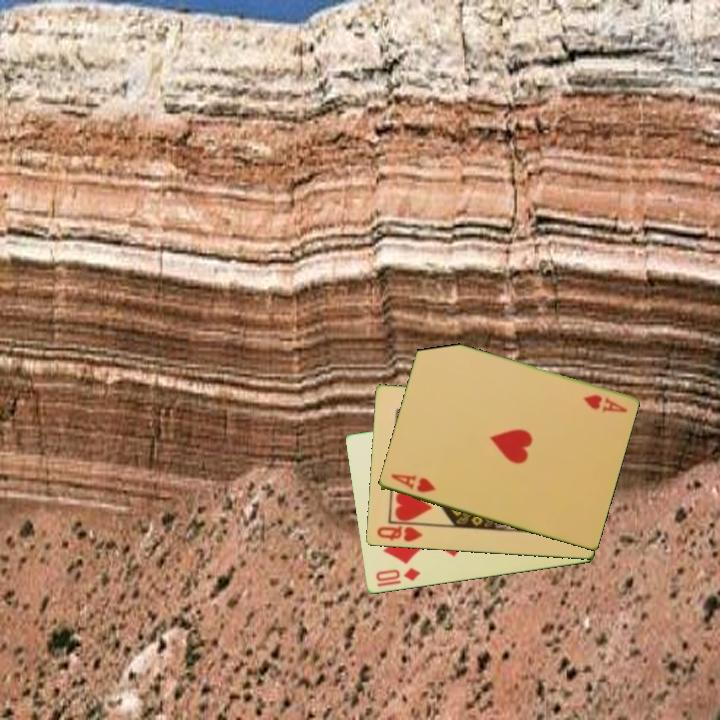10d: (372, 564, 423, 585)
Ah: (387, 471, 438, 496), (579, 391, 630, 416)
Qh: (373, 520, 429, 545)
